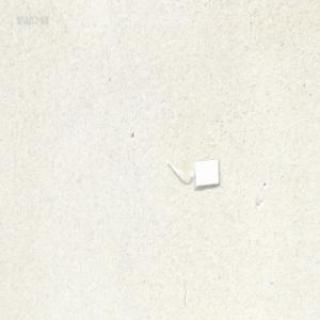LuggageTagtrack_idkeyframe: (165, 156, 220, 188)
